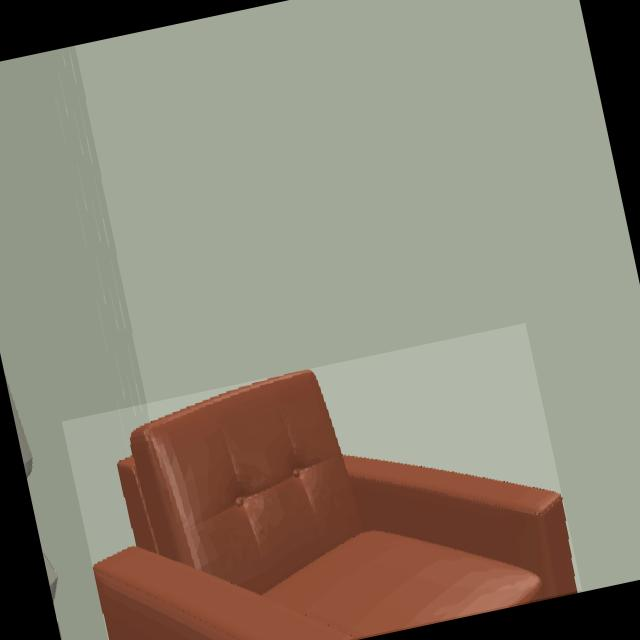sofa: (93, 369, 578, 640)
